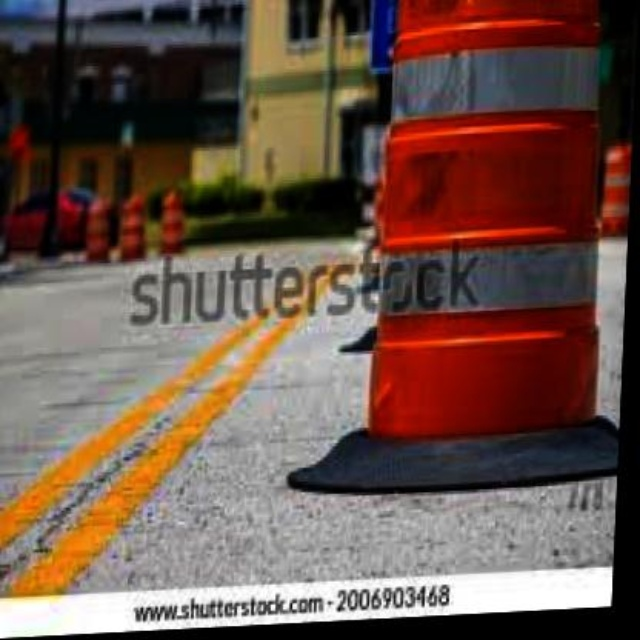obstacle: (366, 0, 625, 449)
